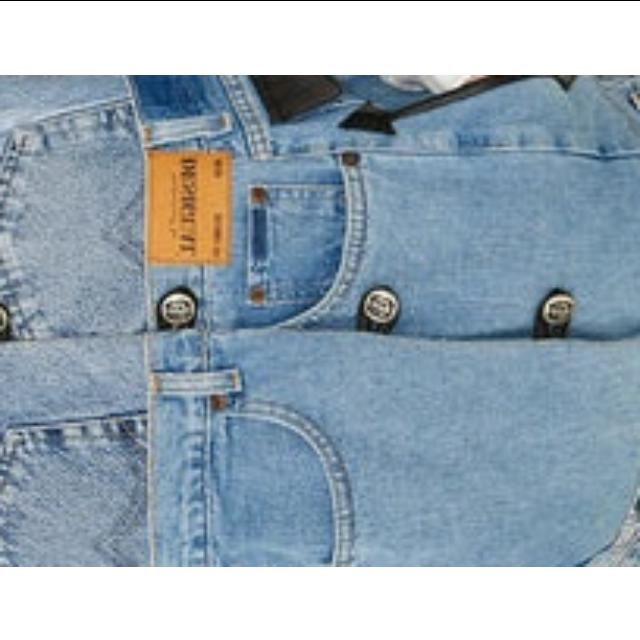denim: (0, 74, 640, 566)
